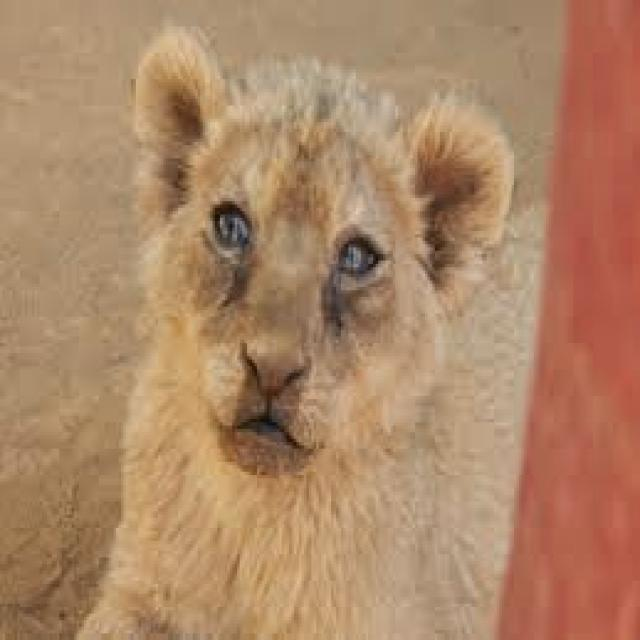lion: (77, 26, 539, 637)
